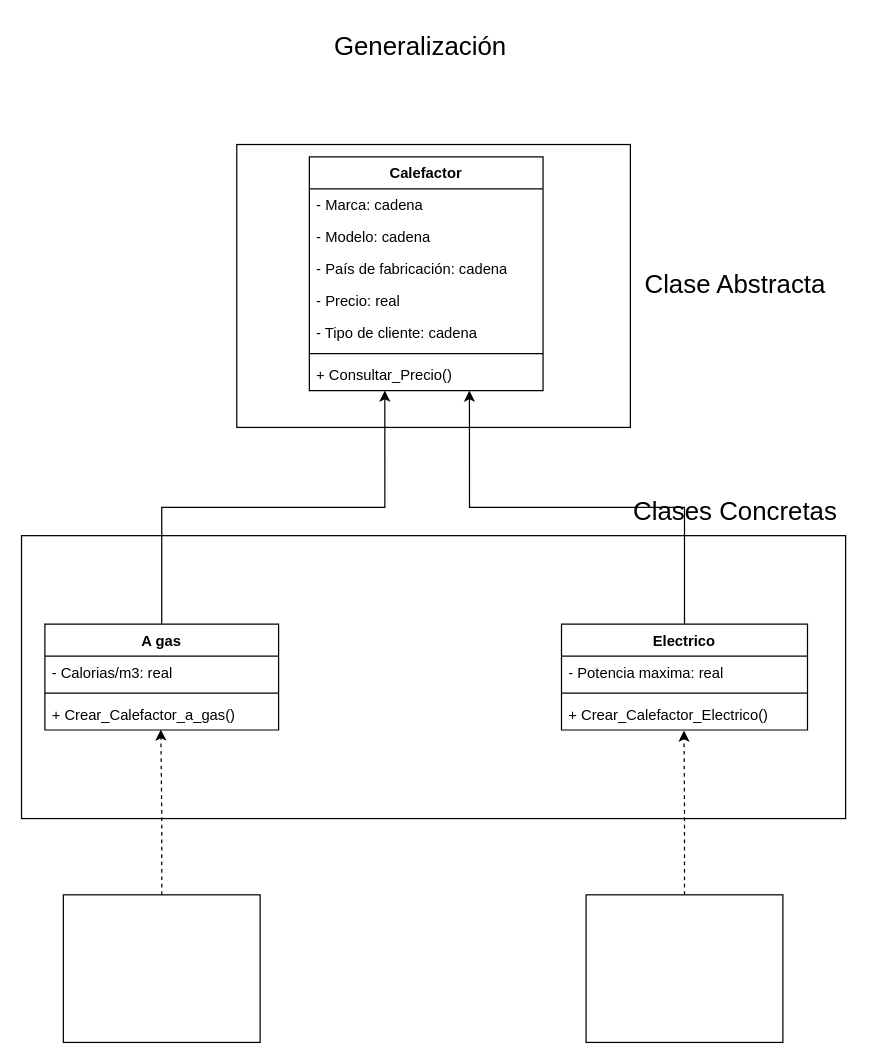
Image size: 873x1064. Some labels were removed from this diagram. Here are the shapes that lost their labels. From the top down, the centre of each, then its label:
pixel 161 968: :A gas Eskabe Miniconvex Rusia 200000 Empresa 5000
pixel 684 968: :Electrico Emege 3150 España 100000 Particular 500
